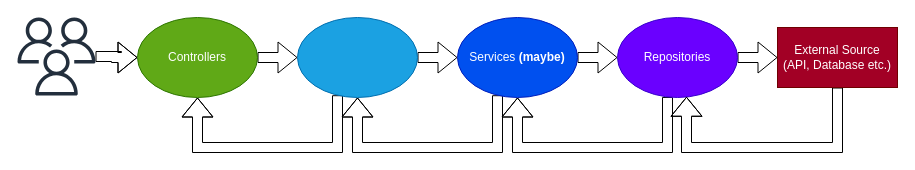
Some shapes in this 915 by 170 pixel diagram are drawn without their labels. Here are the shapes that lost their labels. From the top down, the centre of each, then its label:
At (x=56, y=56): "Users".
At (x=357, y=57): "Commands".
